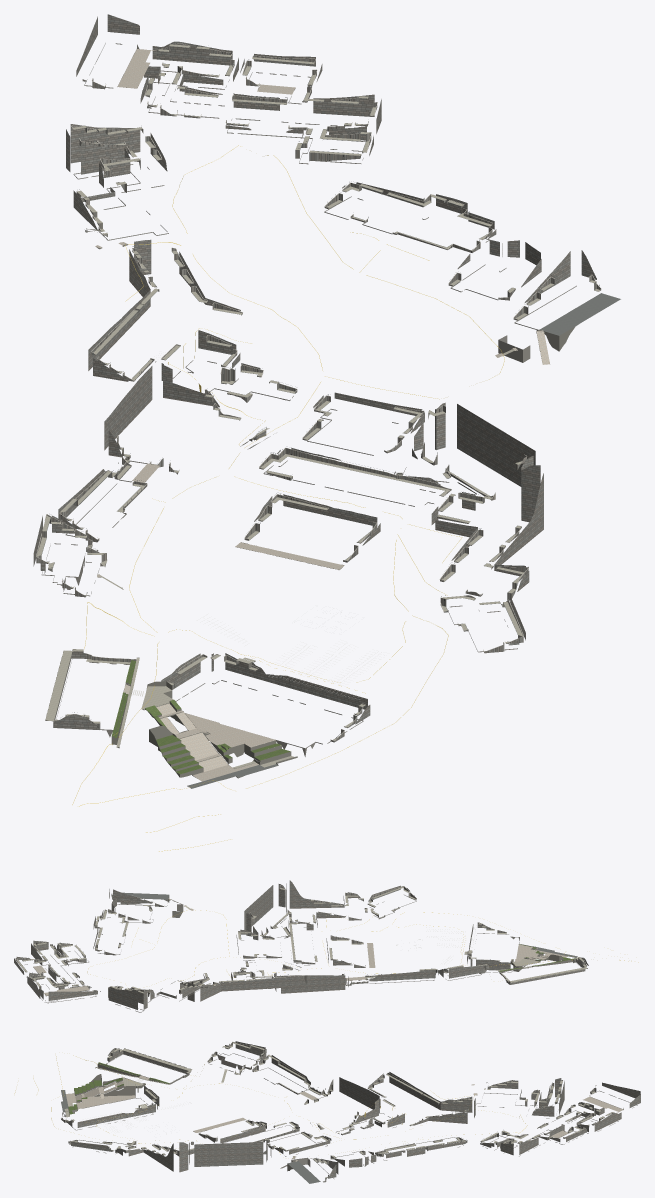
3 views of the same model, one above another, from view 1: azimuth 30°, elevation 25°; view 2: azimuth 150°, elevation 25°; view 3: azimuth 270°, elevation 25° (orthographic). The views are drawn at different scales.
Parts seen in each view (by area): view 1: khu-stonebank (×2), khu-paving (×2), khu-campusPaving, site-concrete, apron-coping, r5-s06-apron-join-upper-estimated__edgeClosure, khu-graniteLight, outer-road-yellow, khu-planted, khu-asphalt, apron-drain; view 2: khu-stonebank (×2), khu-paving (×2), site-concrete, khu-campusPaving, apron-coping, r5-s06-apron-join-upper-estimated__edgeClosure, khu-asphalt; view 3: khu-stonebank (×2), khu-paving (×2), site-concrete, khu-campusPaving, r5-s06-apron-join-upper-estimated__edgeClosure, apron-coping, khu-planted, khu-graniteLight, khu-asphalt.
Boxes of the visible parts, box(x1,y1,x2,y2) form: khu-stonebank (×2): box(33, 14, 600, 742); khu-paving (×2): box(36, 44, 599, 768); khu-campusPaving: box(95, 49, 549, 747); site-concrete: box(41, 43, 576, 756); apron-coping: box(36, 43, 601, 740); r5-s06-apron-join-upper-estimated__edgeClosure: box(45, 44, 578, 786); khu-graniteLight: box(123, 684, 258, 781); outer-road-yellow: box(72, 145, 504, 851); khu-planted: box(112, 660, 290, 774); khu-asphalt: box(187, 293, 620, 788); apron-drain: box(41, 46, 597, 651); khu-stonebank (×2): box(14, 880, 588, 1009); khu-paving (×2): box(17, 886, 587, 993); site-concrete: box(19, 895, 581, 1012); khu-campusPaving: box(33, 898, 538, 995); apron-coping: box(15, 885, 586, 990); r5-s06-apron-join-upper-estimated__edgeClosure: box(44, 895, 587, 995); khu-asphalt: box(122, 892, 577, 957); khu-stonebank (×2): box(61, 1041, 640, 1182); khu-paving (×2): box(63, 1042, 616, 1181); site-concrete: box(62, 1053, 637, 1178); khu-campusPaving: box(76, 1069, 622, 1168); r5-s06-apron-join-upper-estimated__edgeClosure: box(64, 1048, 623, 1171); apron-coping: box(61, 1041, 610, 1181); khu-planted: box(68, 1062, 169, 1114); khu-graniteLight: box(66, 1075, 149, 1106); khu-asphalt: box(61, 1090, 320, 1183).
Size of the model in its own units: 501 by 149 by 677.
Materials: 18 (7 with a texture image).
